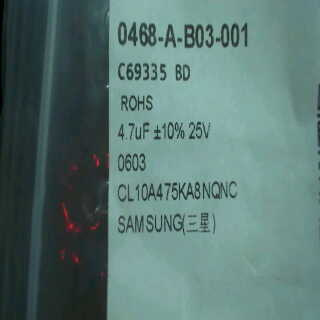4.7uF: (116, 116, 152, 146)
